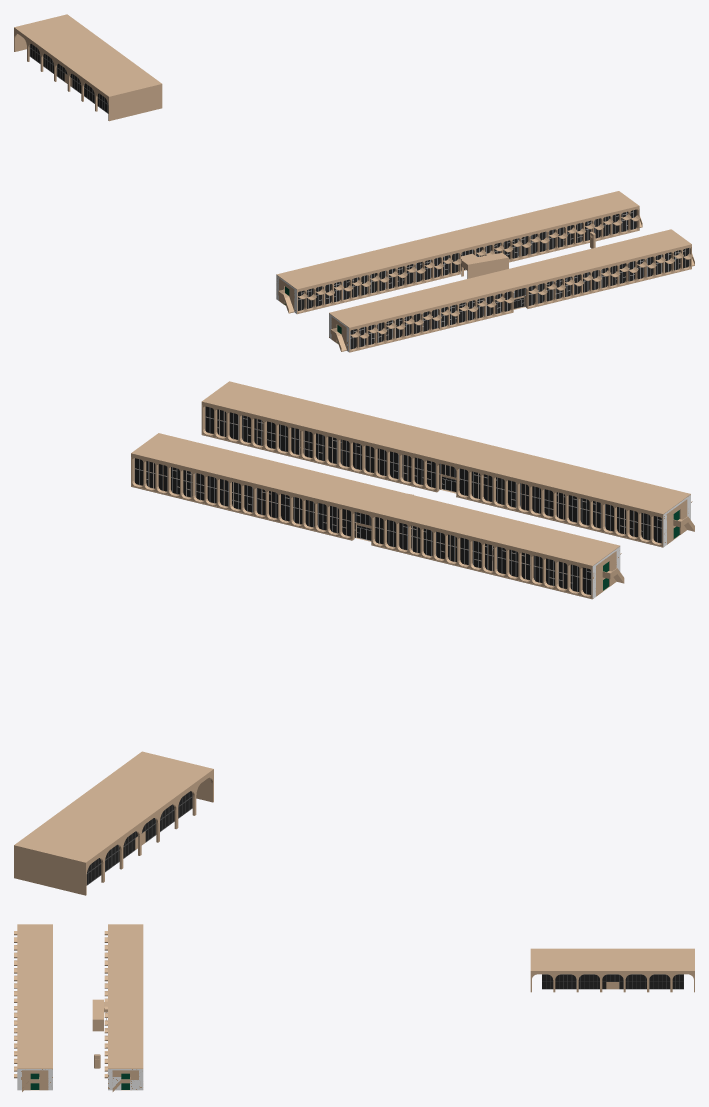
The model's file is td to vrectorat.gltf.
3 renders of one model, top to bottom at view 1: azimuth 30°, elevation 25°; view 2: azimuth 150°, elevation 25°; view 3: azimuth 270°, elevation 25°, orthographic. The views are drawn at different scales.
Parts seen in each view (by area): view 1: 100-200, 300-400, rectorat; view 2: 300-400, 100-200, rectorat; view 3: 100-200, rectorat, 300-400.
Part boxes in pixels (<box>): 100-200: <box>276,191,642,314</box>; 300-400: <box>329,229,694,352</box>; rectorat: <box>14,14,162,121</box>; 300-400: <box>201,381,694,547</box>; 100-200: <box>131,433,624,599</box>; rectorat: <box>14,751,213,895</box>; 100-200: <box>92,924,143,1091</box>; rectorat: <box>530,948,694,992</box>; 300-400: <box>14,924,52,1091</box>.
Size of the model in its own units: 270 by 18.11 by 520.
Materials: 1 (1 with a texture image).
